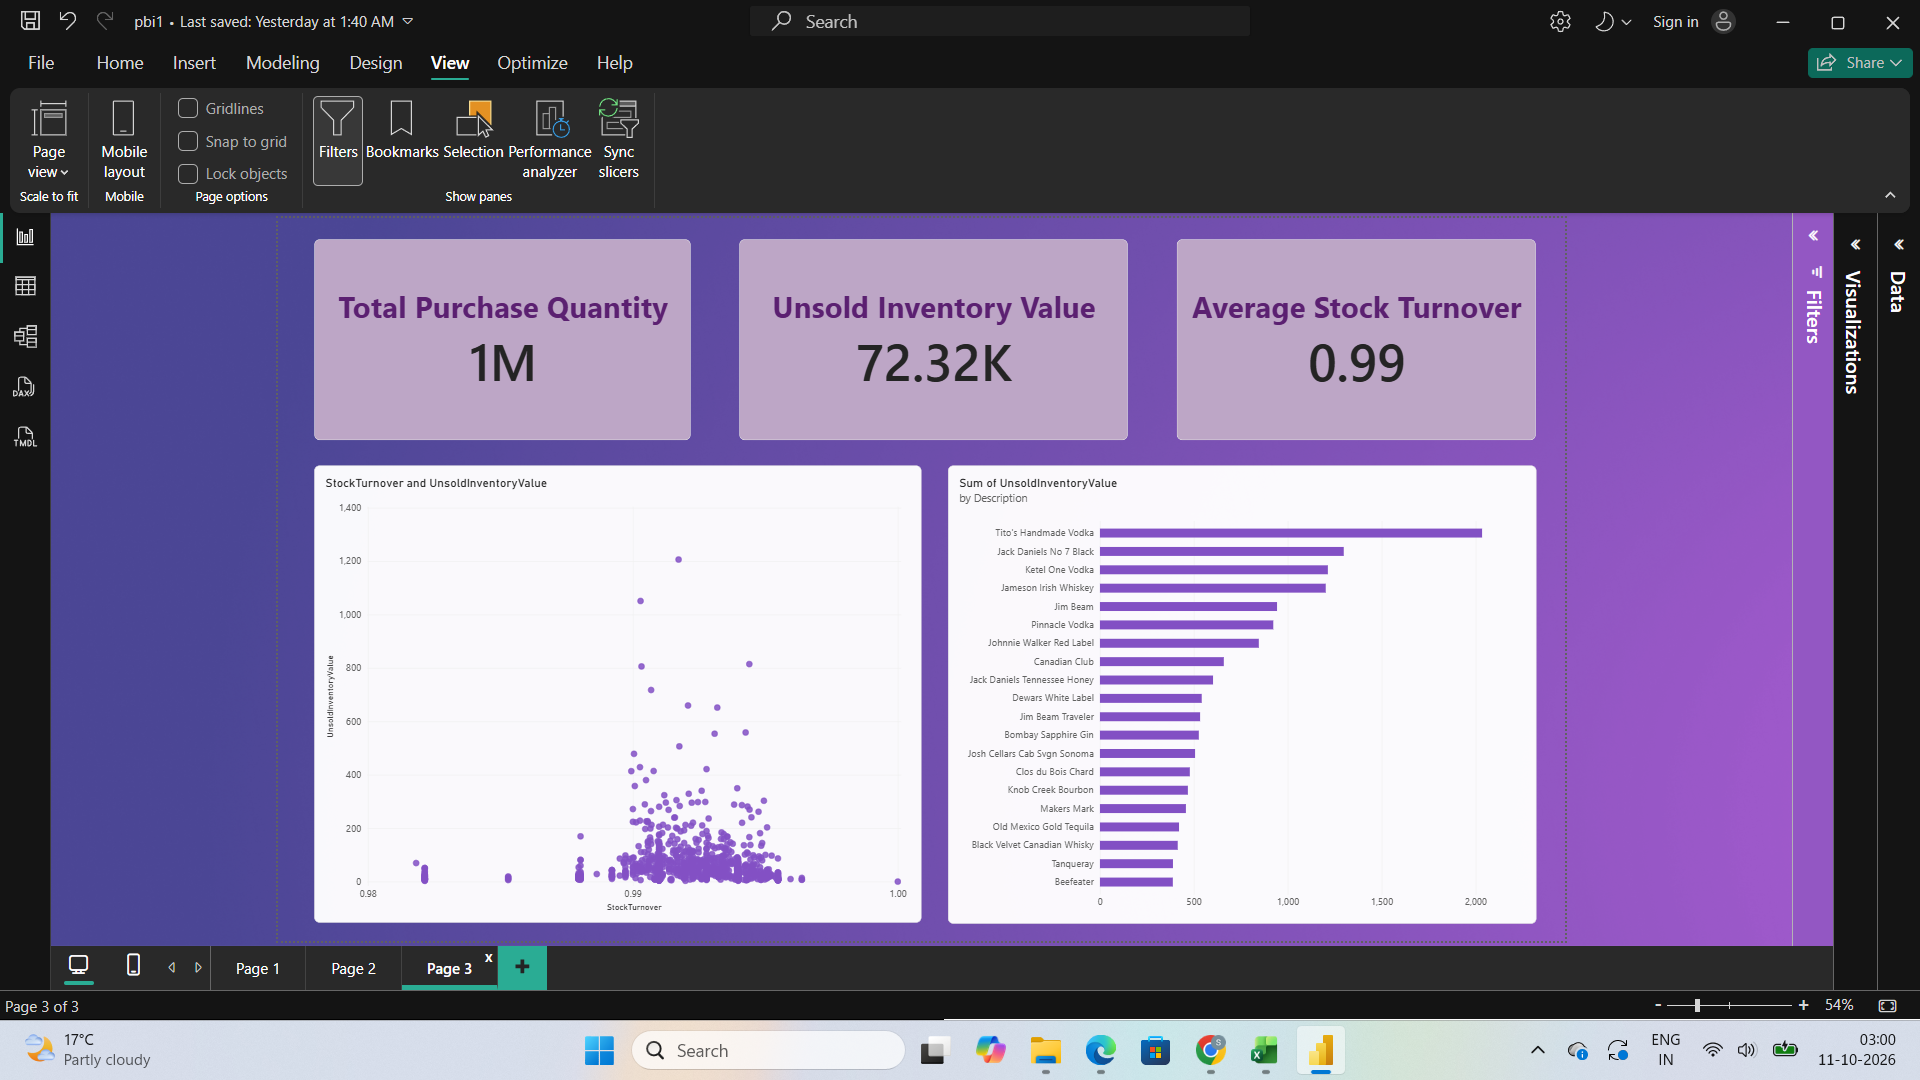

The page's visual inventory and layout, read from the dashboard file:
{"tool":"powerbi","page":{"name":"Page 3","canvas":[1920,1080],"ordinal":2},"visuals":[{"type":"cardVisual","fields":{"Data":["final_table_3.Unsold Inventory Value"]},"box":[688,32,580,300],"z":0},{"type":"cardVisual","fields":{"Data":["final_table_3.Average Stock Turnover"]},"box":[1342,32,536,300],"z":1},{"type":"cardVisual","fields":{"Data":["final_table_3.Total Purchase Quantity"]},"box":[54,32,562,300],"z":2},{"type":"scatterChart","fields":{"X":["final_table_3.StockTurnover"],"Y":["final_table_3.UnsoldInventoryValue"]},"box":[54,370,906,682],"z":3},{"type":"clusteredBarChart","fields":{"Category":["final_table_3.Description"],"Y":["Sum(final_table_3.UnsoldInventoryValue)"]},"box":[1000,370,878,684],"z":4}]}

Visuals, with their boxes on the page's 1920x1080 design canvas (x1, y1, x2, y2). These are canvas units, not pixel positions in the 1920x1080 screenshot, which may show the page scaled, cropped or inside an application window:
cardVisual - final_table_3.Unsold Inventory Value: crop(688, 32, 1268, 332)
cardVisual - final_table_3.Average Stock Turnover: crop(1342, 32, 1878, 332)
cardVisual - final_table_3.Total Purchase Quantity: crop(54, 32, 616, 332)
scatterChart - final_table_3.StockTurnover x final_table_3.UnsoldInventoryValue: crop(54, 370, 960, 1052)
clusteredBarChart - final_table_3.Description x Sum(final_table_3.UnsoldInventoryValue): crop(1000, 370, 1878, 1054)
